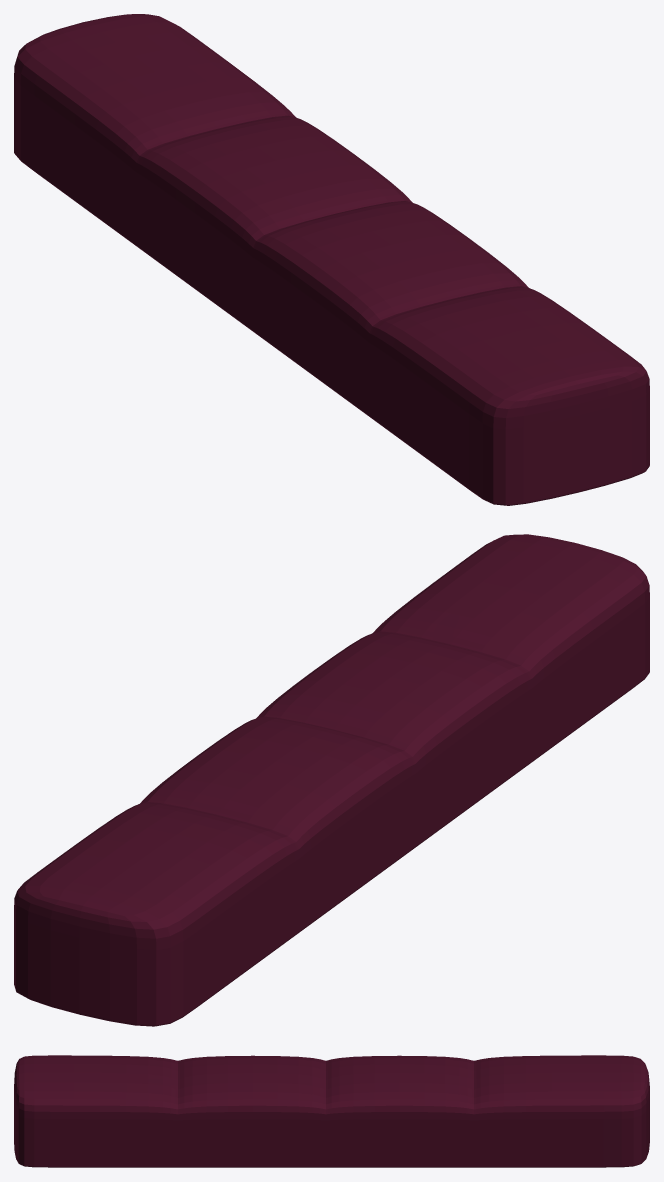
Rendered from delosReyes_couch_2.glb.
The picture shows the model from 3 angles, top to bottom: view 1: azimuth 30°, elevation 25°; view 2: azimuth 150°, elevation 25°; view 3: azimuth 270°, elevation 25°; orthographic projection. The views are drawn at different scales.
Parts seen in each view (by area): view 1: couch_2; view 2: couch_2; view 3: couch_2.
Boxes of the visible parts, bbox=[...] form: couch_2: bbox=[14, 14, 649, 505]; couch_2: bbox=[14, 534, 649, 1026]; couch_2: bbox=[14, 1055, 649, 1167].
Size of the model in its own units: 6.7 by 4.4 by 35.52.
1 material, 1 textured.
